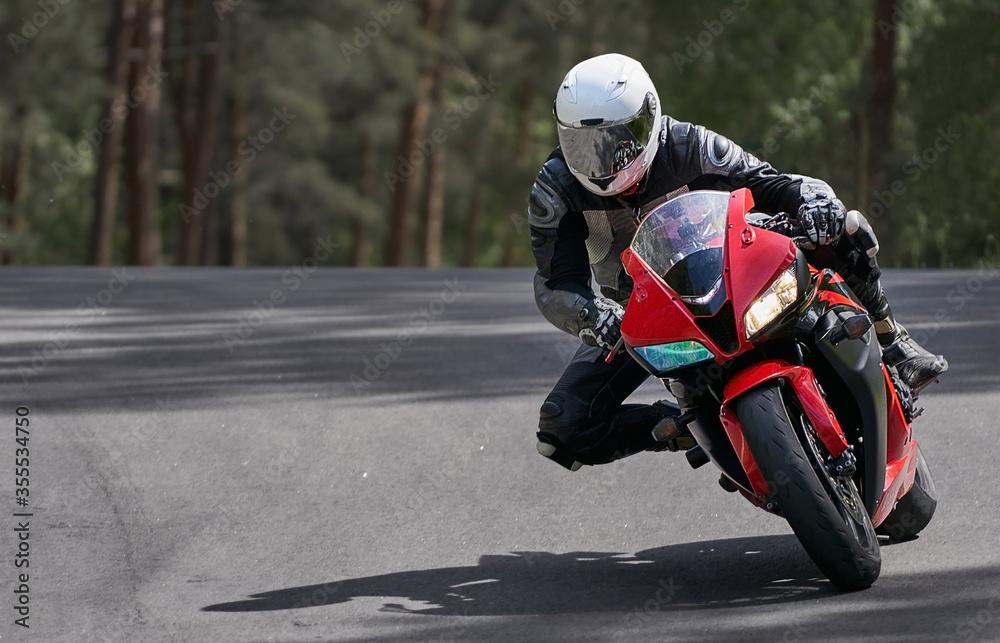helmet: (551, 52, 666, 198)
